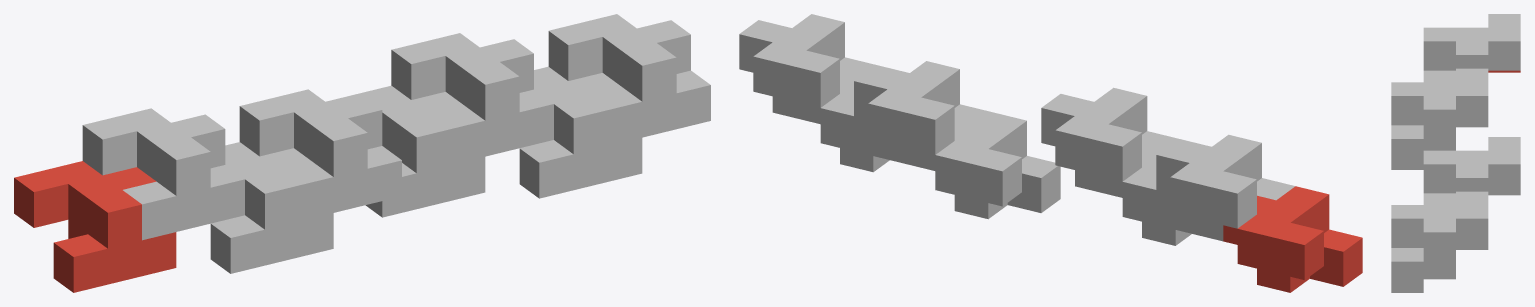
File: tiling.obj
3 views of the same model, side by side, from view 1: azimuth 30°, elevation 25°; view 2: azimuth 150°, elevation 25°; view 3: azimuth 270°, elevation 25° (orthographic). The views are drawn at different scales.
Visible parts, largest first — view 1: copy_1_domain_3, copy_1_domain_4, copy_1_domain_8, copy_1_domain_7, copy_1_domain_1, copy_1_domain_2, copy_1_domain_6, copy_1_domain_5; view 2: copy_1_domain_1, copy_1_domain_5, copy_1_domain_3, copy_1_domain_7, copy_1_domain_4, copy_1_domain_8, copy_1_domain_2, copy_1_domain_6; view 3: copy_1_domain_8, copy_1_domain_4, copy_1_domain_3, copy_1_domain_7, copy_1_domain_6, copy_1_domain_2, copy_1_domain_1, copy_1_domain_5.
Boxes of the visible parts, box(x1,y1,x2,y2) form: copy_1_domain_3: box(82, 108, 244, 240); copy_1_domain_4: box(239, 89, 401, 221); copy_1_domain_8: box(548, 14, 710, 145); copy_1_domain_7: box(391, 33, 553, 164); copy_1_domain_1: box(14, 161, 176, 292); copy_1_domain_2: box(210, 142, 333, 273); copy_1_domain_6: box(519, 66, 642, 198); copy_1_domain_5: box(325, 85, 485, 217); copy_1_domain_1: box(1223, 186, 1362, 292); copy_1_domain_5: box(921, 112, 1060, 219); copy_1_domain_3: box(1156, 134, 1295, 241); copy_1_domain_7: box(854, 61, 992, 167); copy_1_domain_4: box(1041, 87, 1180, 194); copy_1_domain_8: box(739, 14, 878, 120); copy_1_domain_2: box(1108, 139, 1211, 245); copy_1_domain_6: box(806, 65, 909, 172); copy_1_domain_8: box(1391, 191, 1488, 290); copy_1_domain_4: box(1391, 68, 1488, 167); copy_1_domain_3: box(1423, 14, 1520, 82); copy_1_domain_7: box(1423, 137, 1520, 204); copy_1_domain_6: box(1391, 248, 1488, 292); copy_1_domain_2: box(1391, 125, 1488, 169); copy_1_domain_1: box(1488, 70, 1520, 72); copy_1_domain_5: box(1488, 193, 1520, 195).
Bounding box in the file's own units: 18 × 3 × 4.
